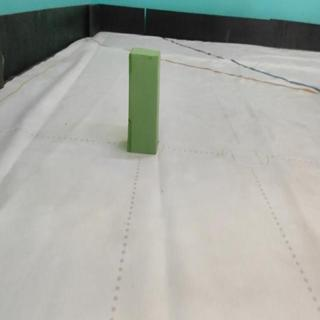greenbox: (127, 44, 165, 157)
